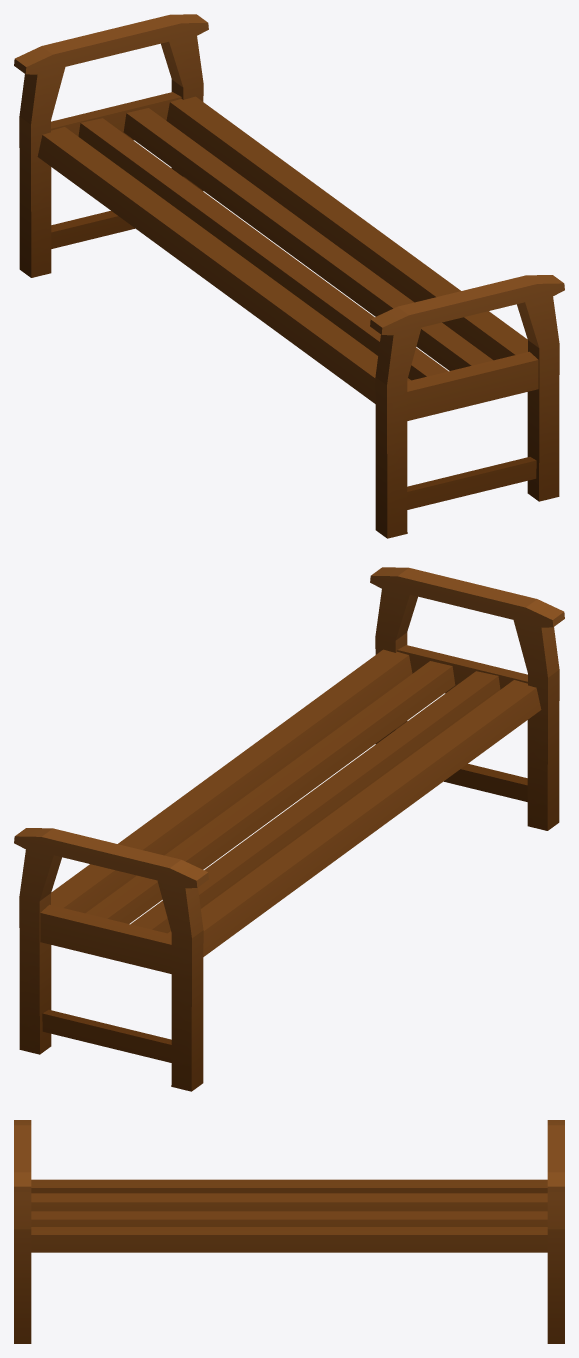
File: Park_Bench_Open.fbx
3 views of the same model, one above another, from view 1: azimuth 30°, elevation 25°; view 2: azimuth 150°, elevation 25°; view 3: azimuth 270°, elevation 25° (orthographic). The views are drawn at different scales.
Visible parts, largest first — view 1: Park_Bench_Open; view 2: Park_Bench_Open; view 3: Park_Bench_Open.
Boxes of the visible parts, box(x1,y1,x2,y2) form: Park_Bench_Open: box(14, 14, 564, 538); Park_Bench_Open: box(14, 567, 564, 1091); Park_Bench_Open: box(14, 1120, 564, 1343).
Size of the model in its own units: 65.24 by 74.23 by 227.
